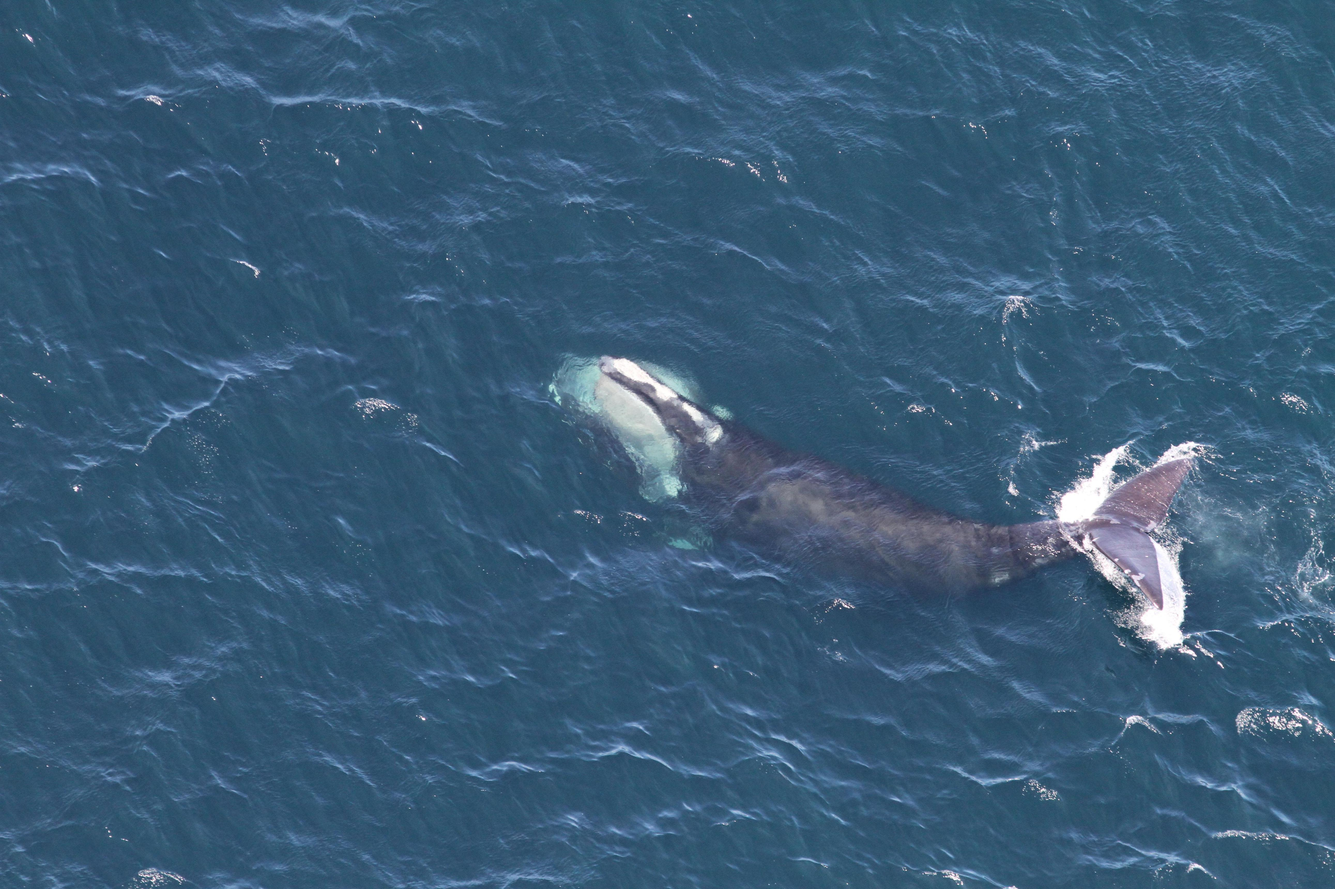whale: (564, 349, 1198, 628)
